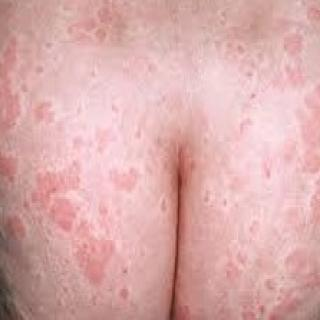urticaria: (2, 208, 31, 318), (38, 162, 85, 228), (2, 34, 24, 135), (69, 8, 129, 42), (261, 277, 299, 313), (284, 28, 305, 88), (32, 94, 57, 127), (3, 154, 21, 187)
